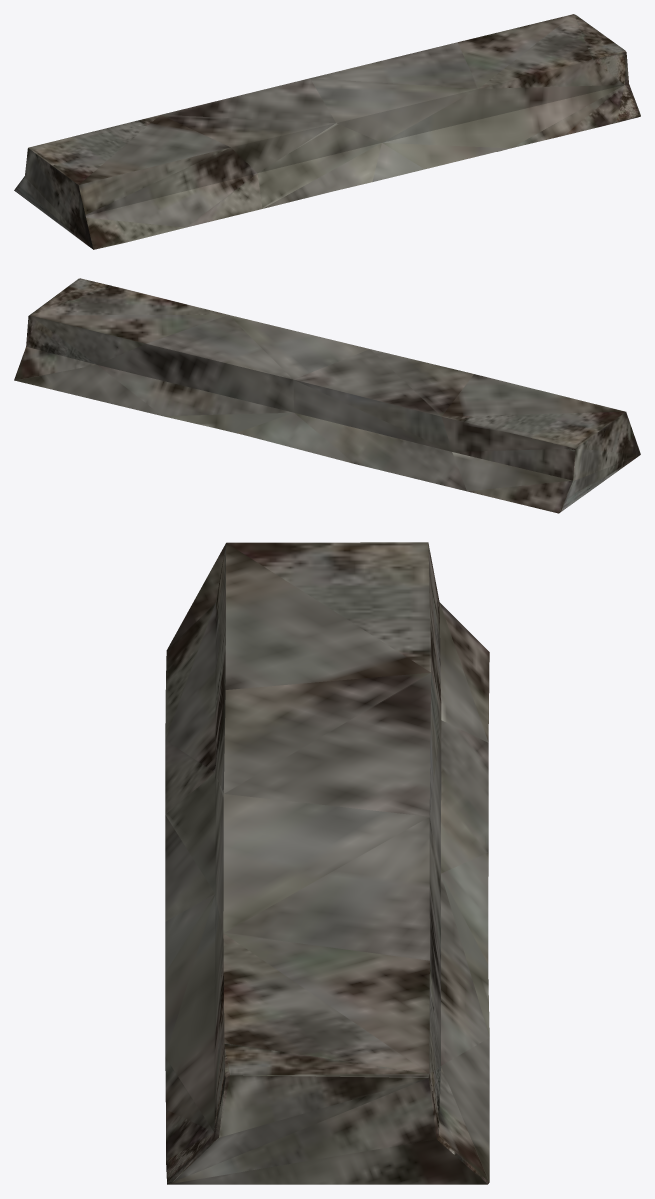
The model's file is fixture.glb.
3 renders of one model, top to bottom at view 1: azimuth 30°, elevation 25°; view 2: azimuth 150°, elevation 25°; view 3: azimuth 270°, elevation 25°, orthographic. The views are drawn at different scales.
Parts seen in each view (by area): view 1: Mesh_0; view 2: Mesh_0; view 3: Mesh_0.
Boxes of the visible parts, box(x1,y1,x2,y2) form: Mesh_0: box(14, 14, 640, 249); Mesh_0: box(14, 278, 640, 513); Mesh_0: box(165, 542, 489, 1184).
Size of the model in its own units: 1.9 by 0.1985 by 0.4874.
1 material, 1 textured.
